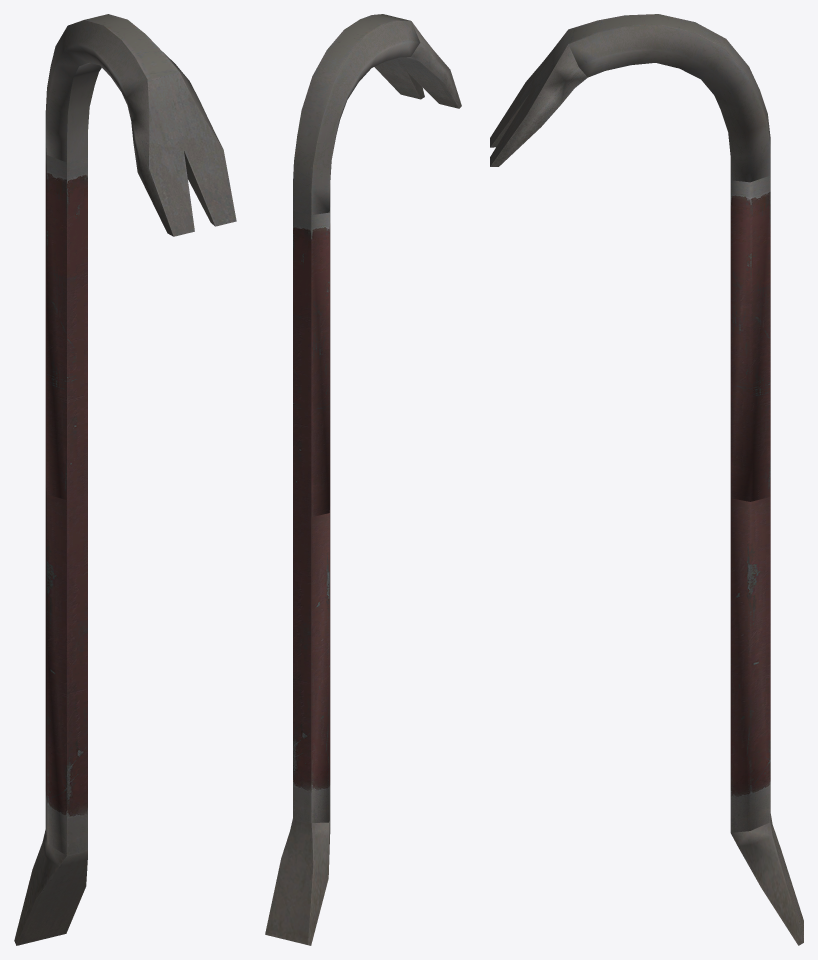
The model's file is Melee_Prop_qg_Main_(000278).glb.
3 renders of one model, left to right at view 1: azimuth 30°, elevation 25°; view 2: azimuth 150°, elevation 25°; view 3: azimuth 270°, elevation 25°, orthographic. The views are drawn at different scales.
Visible parts, largest first — view 1: qg; view 2: qg; view 3: qg.
Boxes of the visible parts, <box> form: qg: <box>14,14,236,945</box>; qg: <box>265,14,461,945</box>; qg: <box>490,14,803,945</box>.
Bounding box in the file's own units: 0.0799 × 0.9198 × 0.2859.
Materials: 1 (1 with a texture image).
